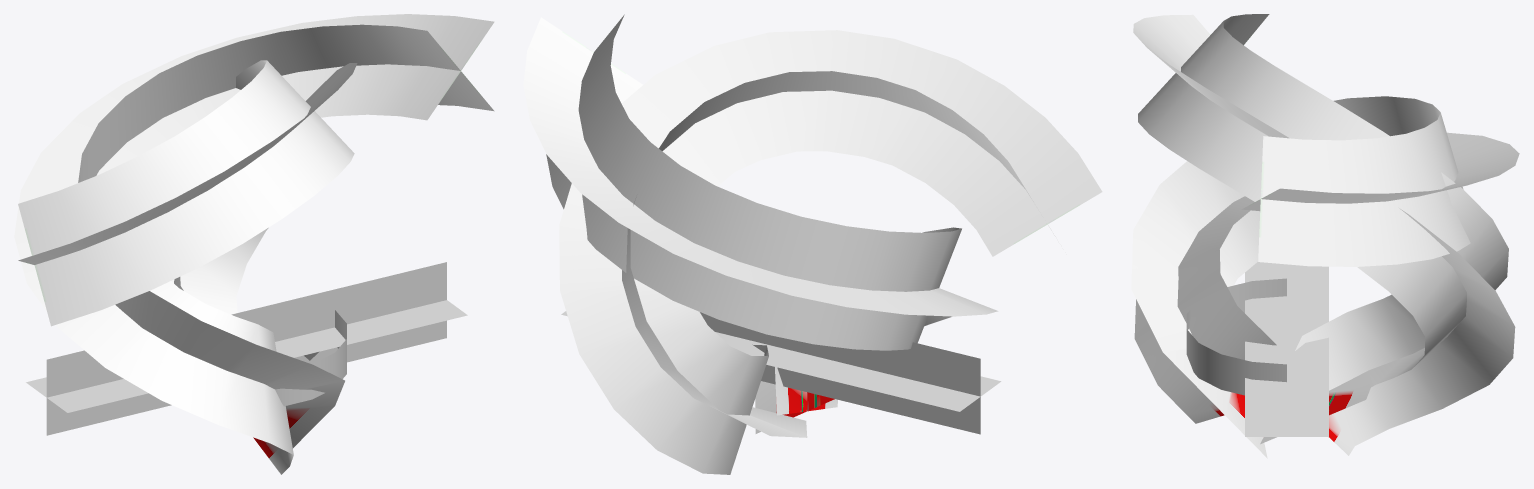
The model's file is E_blackturtle_skill.FBX.
3 renders of one model, left to right at view 1: azimuth 30°, elevation 25°; view 2: azimuth 150°, elevation 25°; view 3: azimuth 270°, elevation 25°, orthographic.
Visible parts, largest first — view 1: Plane002, Plane001, Cylinder001; view 2: Plane002, Plane001; view 3: Plane002, Plane001, Cylinder001.
Part boxes in pixels (<box>): Plane002: <box>14,14,494,474</box>; Plane001: <box>26,262,467,435</box>; Cylinder001: <box>275,310,346,406</box>; Plane002: <box>523,14,1102,474</box>; Plane001: <box>561,311,1001,434</box>; Plane002: <box>1131,14,1519,458</box>; Plane001: <box>1245,262,1328,436</box>; Cylinder001: <box>1186,278,1286,395</box>.
Bounding box in the file's own units: 478 × 341 × 309.
1 material, 1 textured.
